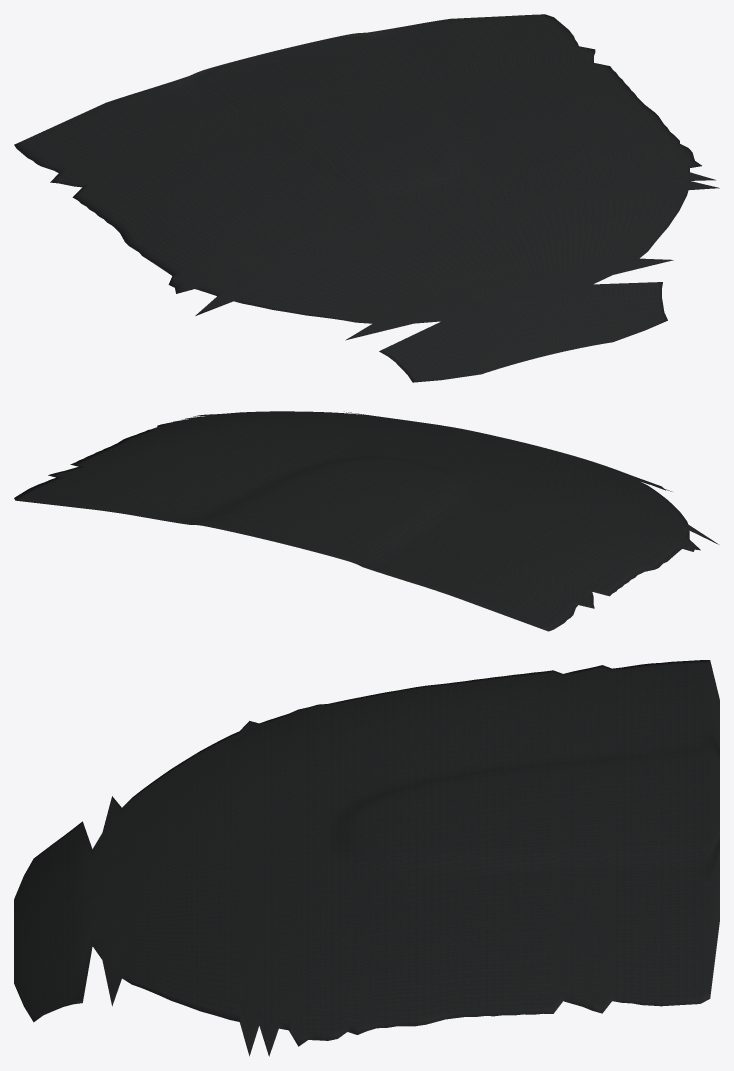
The model's file is DT78_bonnet_wrap_carbon.glb.
The picture shows the model from 3 angles, top to bottom: view 1: azimuth 30°, elevation 25°; view 2: azimuth 150°, elevation 25°; view 3: azimuth 270°, elevation 25°; orthographic projection. The views are drawn at different scales.
Visible parts, largest first — view 1: MOD_NC_DT78_wrap; view 2: MOD_NC_DT78_wrap; view 3: MOD_NC_DT78_wrap.
Boxes of the visible parts, x1,y1,x2,y2 form: MOD_NC_DT78_wrap: [14, 14, 719, 382]; MOD_NC_DT78_wrap: [14, 411, 718, 631]; MOD_NC_DT78_wrap: [14, 660, 719, 1056].
Size of the model in its own units: 1.3 by 0.2535 by 1.12.
1 material, 1 textured.
